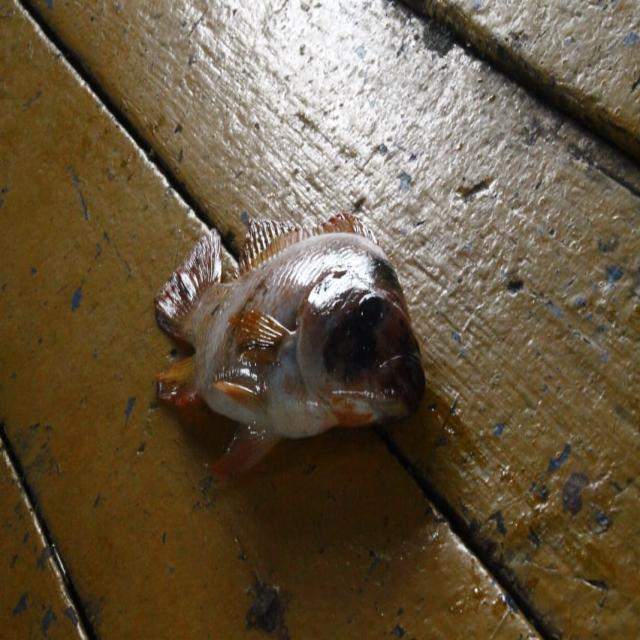ikan: (140, 188, 439, 493)
